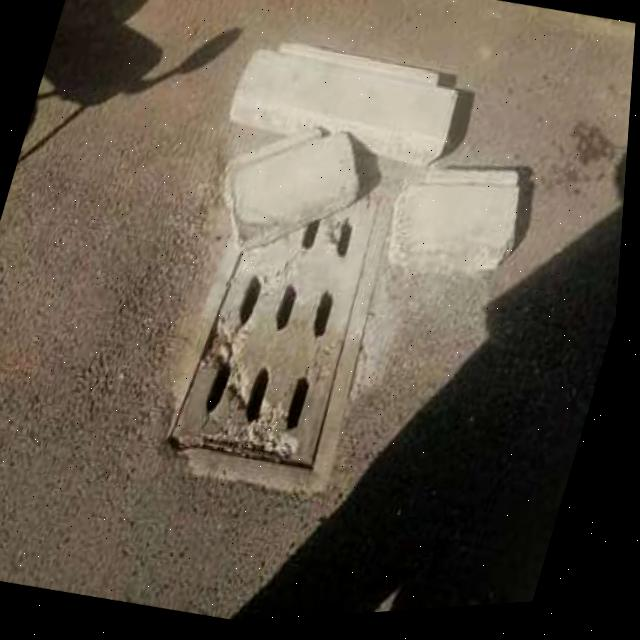manhole: (139, 120, 423, 510)
